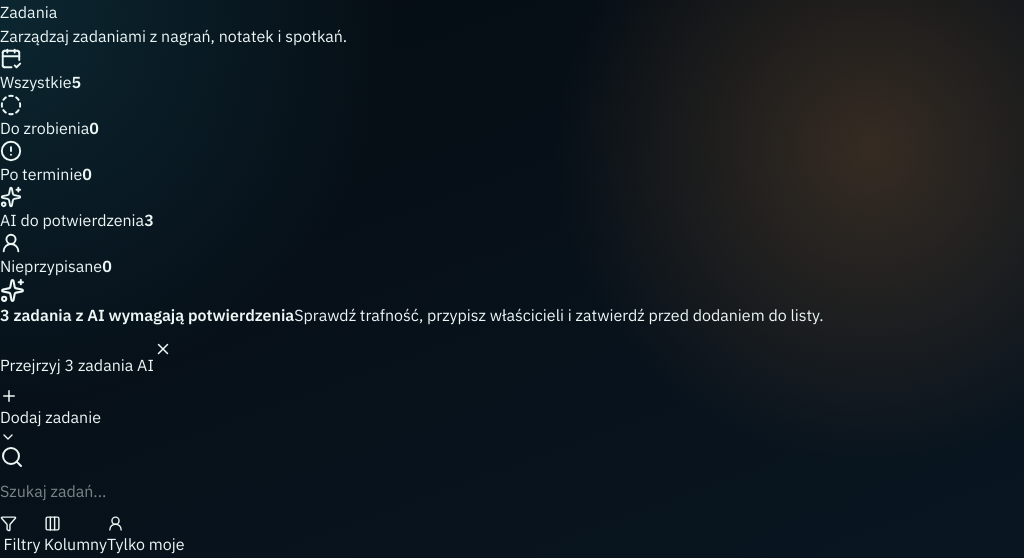
TasksWorkspaceView › renders dismissible AI confirmation banner on task views
Expected: the text "3 zadania z AI wymagają potwierdzenia" is shown, [0,305,294,325]
Expected: the button "Przejrzyj 3 zadania AI" is shown, [0,343,154,387]
What coordinates should you click on to do the following:
click the button named "Zamknij komunikat"
I would click on:
 (176, 349)
Its box is [154,327,198,371].
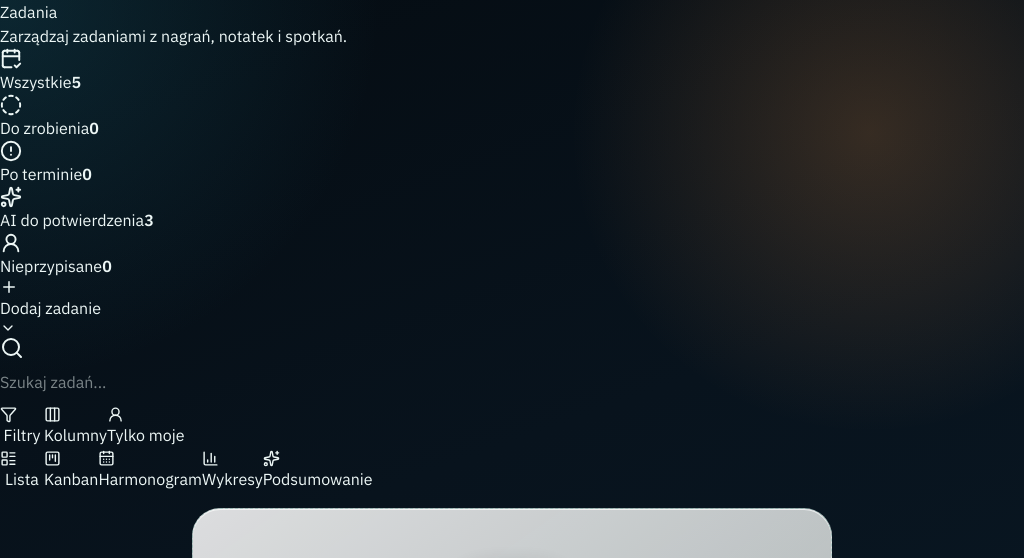
Now the text "3 zadania z AI wymagają potwierdzenia" is gone
